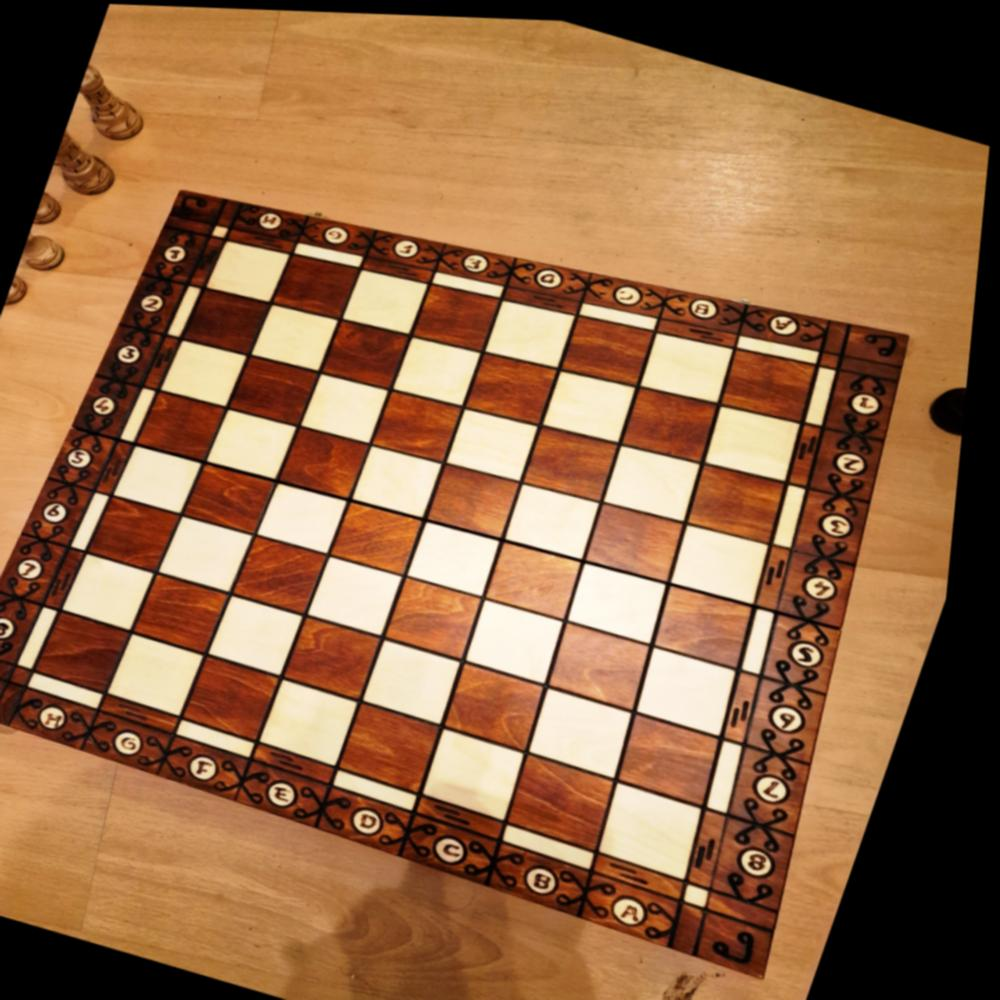chessfield: (605, 775, 724, 874), (516, 748, 636, 846), (534, 682, 648, 775), (431, 722, 542, 817), (641, 641, 754, 734), (624, 708, 738, 800), (554, 617, 664, 707), (349, 697, 456, 789), (454, 659, 562, 750), (660, 579, 769, 666), (676, 515, 786, 601), (372, 635, 477, 724), (271, 676, 375, 765), (473, 596, 579, 683), (710, 395, 816, 481), (694, 455, 801, 540), (572, 557, 678, 642), (608, 435, 714, 520), (590, 493, 697, 577), (392, 573, 495, 659), (295, 613, 397, 699), (195, 652, 295, 739), (121, 632, 222, 718), (494, 536, 597, 619), (627, 378, 730, 461), (725, 338, 829, 420), (217, 592, 317, 677), (513, 475, 615, 557), (531, 418, 632, 500), (146, 572, 245, 655), (549, 360, 649, 442), (643, 321, 743, 403), (47, 610, 145, 693), (319, 553, 417, 636), (242, 532, 339, 615), (169, 513, 267, 595), (567, 306, 666, 386), (432, 456, 531, 536), (451, 403, 550, 483), (414, 516, 512, 596), (471, 344, 568, 424), (361, 439, 456, 518), (99, 495, 193, 574), (379, 387, 473, 465), (341, 499, 436, 576), (490, 290, 584, 367), (400, 329, 492, 407), (74, 553, 166, 631), (265, 479, 358, 556), (286, 423, 379, 500), (193, 461, 287, 537), (306, 370, 398, 446), (216, 406, 308, 482), (144, 389, 237, 464), (236, 352, 327, 427), (125, 442, 215, 517), (330, 314, 421, 388), (419, 277, 510, 350), (191, 286, 280, 359), (170, 337, 257, 411), (349, 264, 436, 338), (258, 300, 346, 373), (277, 249, 365, 321), (213, 236, 298, 306)
